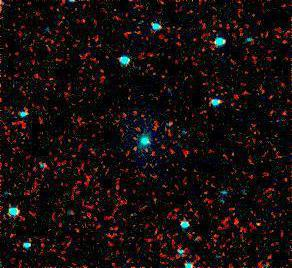star: (243, 210, 273, 240)
